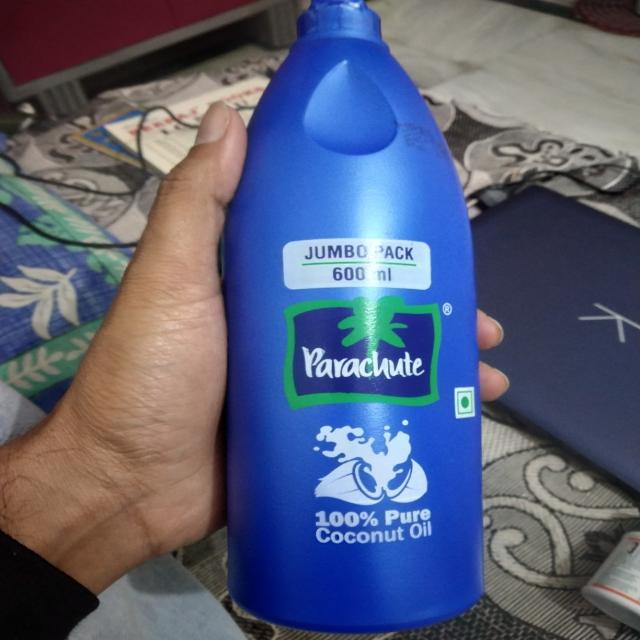parachute_oil: (227, 0, 490, 635)
